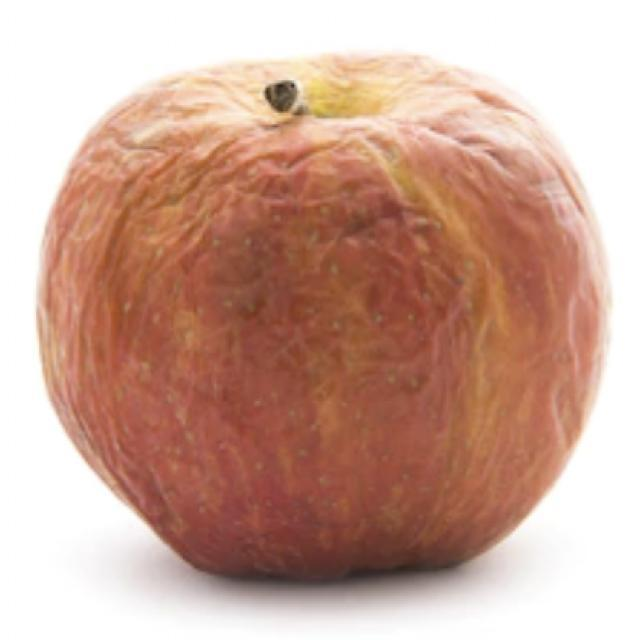Rotten: (70, 47, 623, 590)
